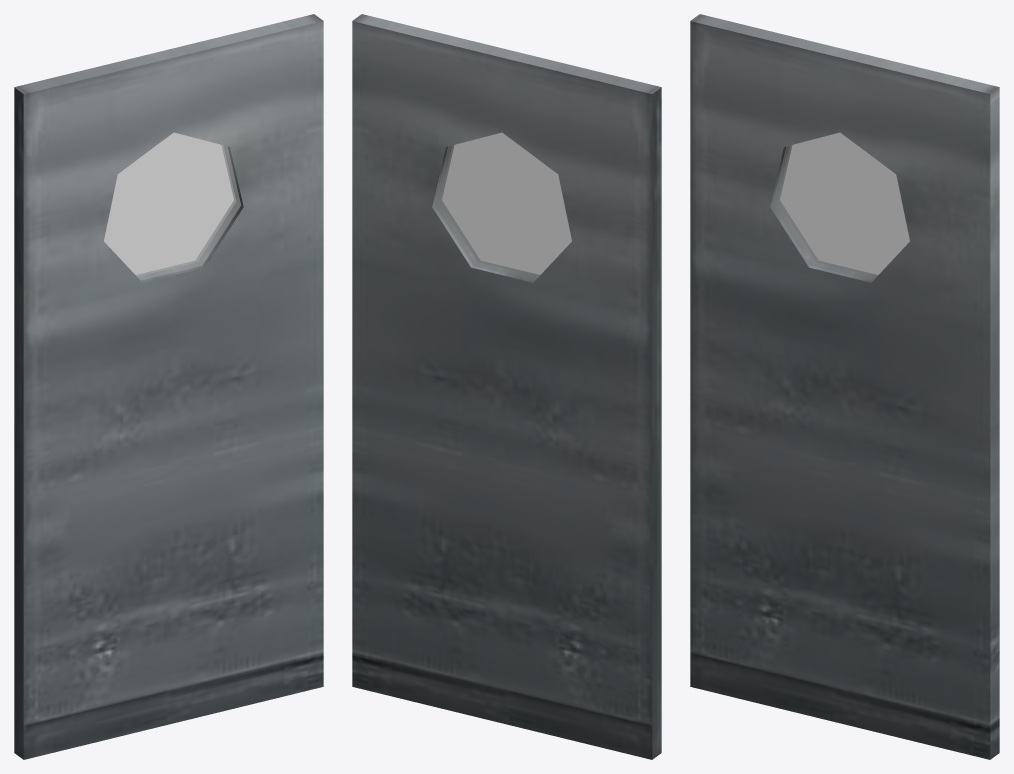
Rendered from KitchenDoor.glb.
3 views of the same model, side by side, from view 1: azimuth 30°, elevation 25°; view 2: azimuth 150°, elevation 25°; view 3: azimuth 330°, elevation 25° (orthographic).
Visible parts, largest first — view 1: Door_01; view 2: Door_01; view 3: Door_01.
Part boxes in pixels (<box>): Door_01: <box>14,14,323,759</box>; Door_01: <box>352,14,661,759</box>; Door_01: <box>690,14,999,759</box>.
Bounding box in the file's own units: 1.27 × 2.7 × 0.0709.
Materials: 2 (1 with a texture image).
